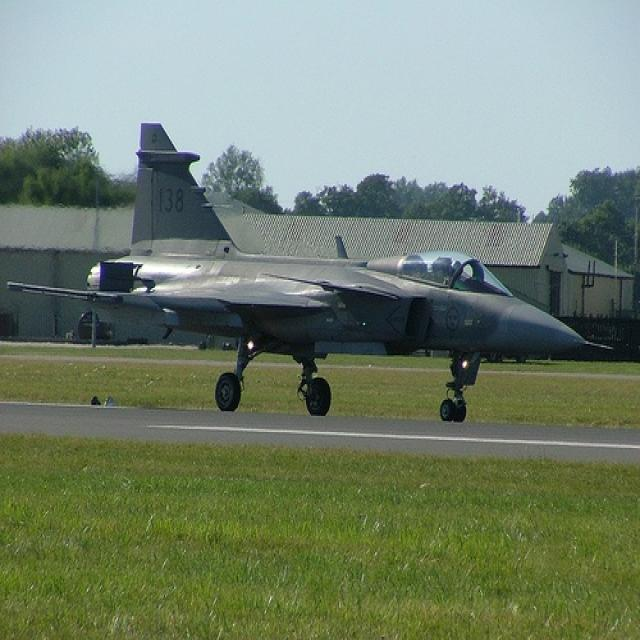aeroplane: (82, 118, 600, 429)
